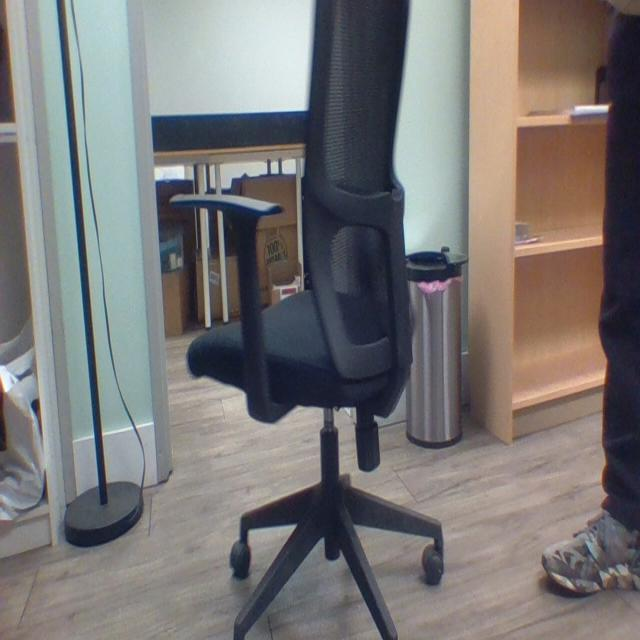chair: (172, 7, 448, 639)
